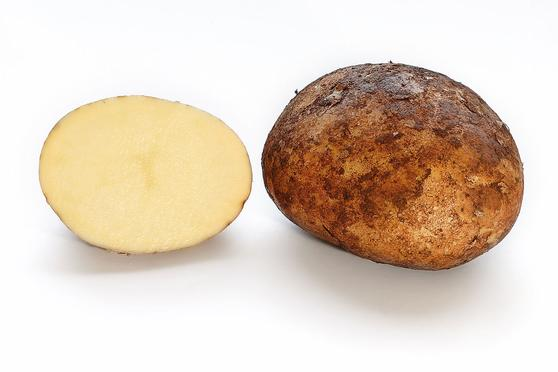potato: (266, 58, 524, 268)
